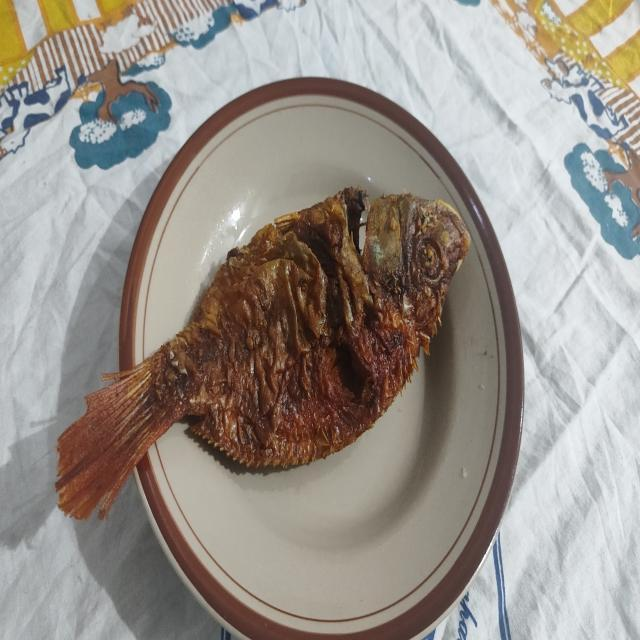ikan_mujair: (56, 187, 470, 519)
